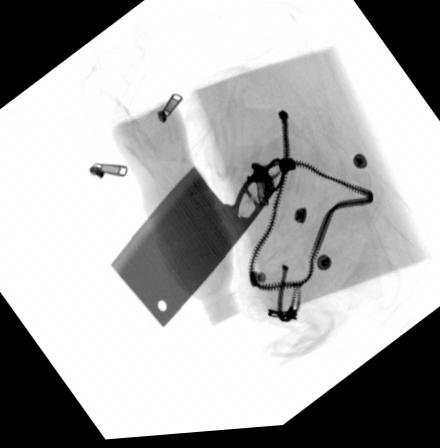Knife: (108, 167, 275, 331)
